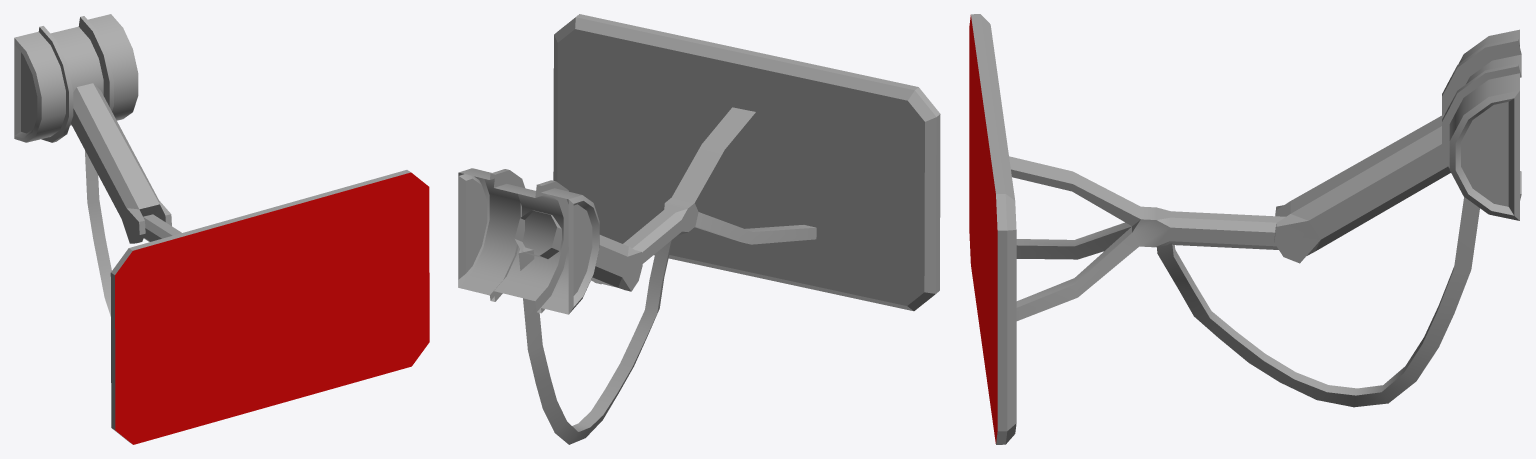
The model's file is SM_schermo.fbx.
3 renders of one model, left to right at view 1: azimuth 30°, elevation 25°; view 2: azimuth 150°, elevation 25°; view 3: azimuth 270°, elevation 25°, orthographic. The views are drawn at different scales.
Parts seen in each view (by area): view 1: polySurface4, SM_base_TV_arm2, SM_arm_TV_01, polySurface3, SM_TV_pipe9, SM_arm_TV_02; view 2: polySurface3, SM_base_TV_arm2, SM_arm_TV_02, SM_TV_pipe9, SM_arm_TV_01; view 3: SM_arm_TV_02, SM_base_TV_arm2, SM_arm_TV_01, SM_TV_pipe9, polySurface3, polySurface4.
Part boxes in pixels (x1,y1,x2,y2): polySurface4: (115,172,429,444); SM_base_TV_arm2: (14,14,138,142); SM_arm_TV_01: (71,83,171,243); polySurface3: (110,170,410,443); SM_TV_pipe9: (85,150,111,316); SM_arm_TV_02: (143,214,181,241); polySurface3: (553,14,940,311); SM_base_TV_arm2: (458,168,599,314); SM_arm_TV_02: (623,107,816,263); SM_TV_pipe9: (518,239,672,444); SM_arm_TV_01: (514,210,642,291); SM_arm_TV_02: (1009,156,1285,320); SM_base_TV_arm2: (1442,29,1521,220); SM_arm_TV_01: (1274,114,1450,263); SM_TV_pipe9: (1156,197,1479,407); polySurface3: (971,14,1016,444); polySurface4: (969,15,997,443).
Bounding box in the file's own units: 99.74 × 80.17 × 114.
